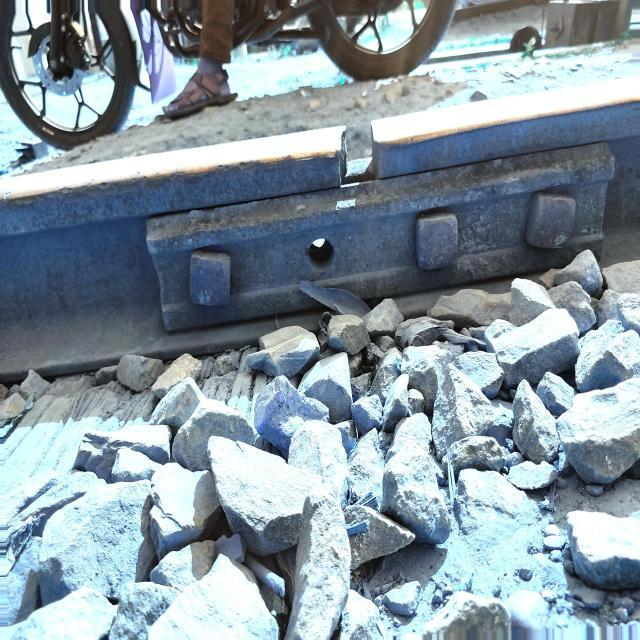Defective Joint: (147, 142, 615, 333)
